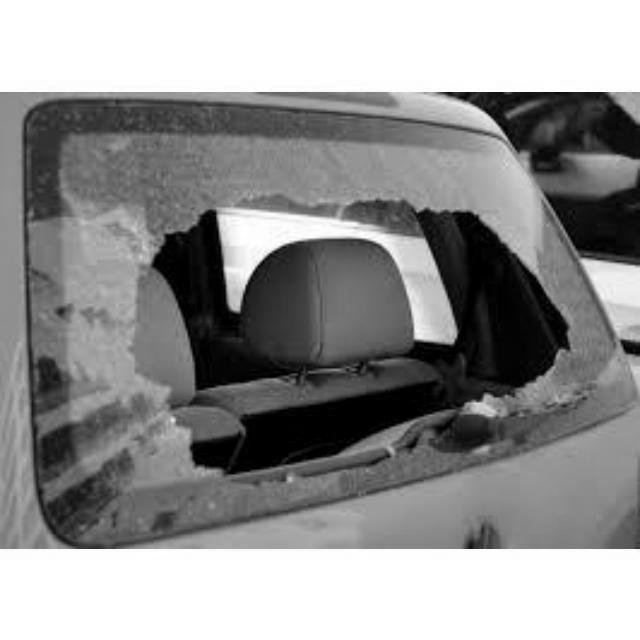Rear-windscreen-Damage: (22, 91, 630, 545)
